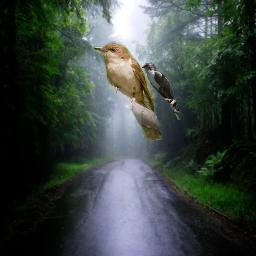Cuckoo: (92, 41, 162, 141), (141, 63, 184, 120)
